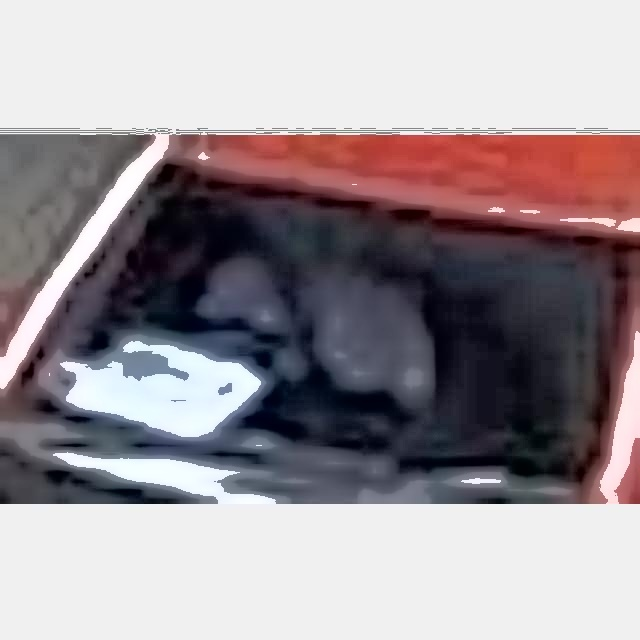tidak-pakai: (198, 234, 424, 414)
